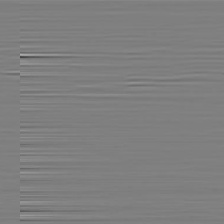cavities: (119, 46, 192, 224)
